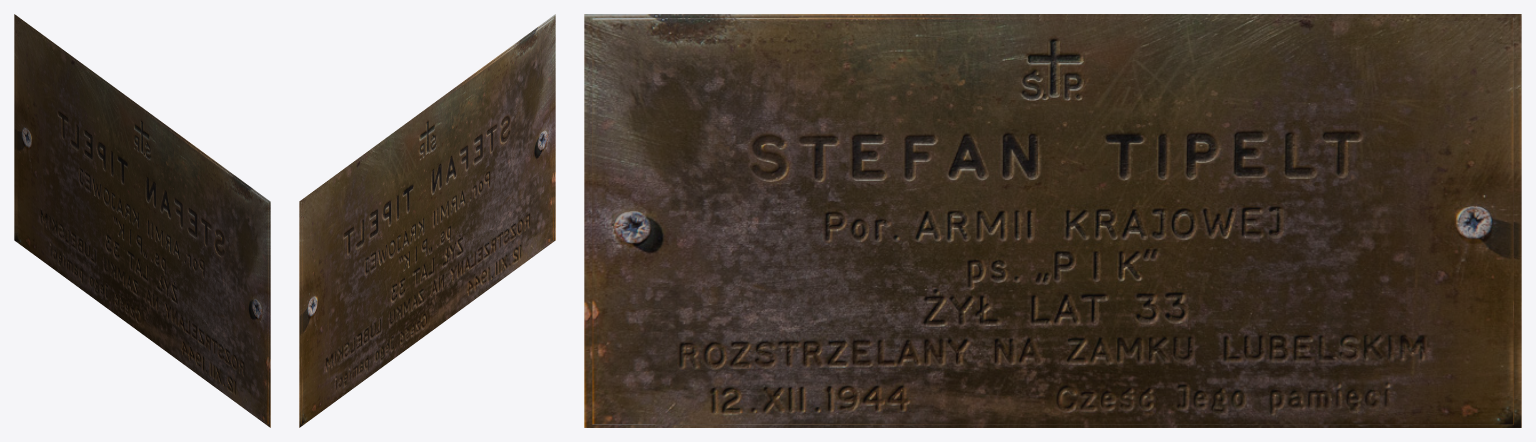
The model's file is 25. ŚP. STEFAN TIPELT.glb.
3 views of the same model, side by side, from view 1: azimuth 30°, elevation 25°; view 2: azimuth 150°, elevation 25°; view 3: azimuth 270°, elevation 25° (orthographic). The views are drawn at different scales.
Visible parts, largest first — view 1: Plane; view 2: Plane; view 3: Plane.
Part boxes in pixels (left/top/right/bottom): Plane: left=14, top=14, right=270, bottom=427; Plane: left=299, top=14, right=555, bottom=427; Plane: left=584, top=14, right=1521, bottom=427.
Bounding box in the file's own units: 0.0246 × 9.4 × 19.3.
Materials: 1 (1 with a texture image).
